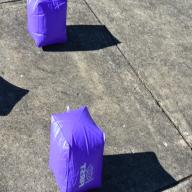cube: (49, 106, 105, 192), (27, 1, 67, 48)
